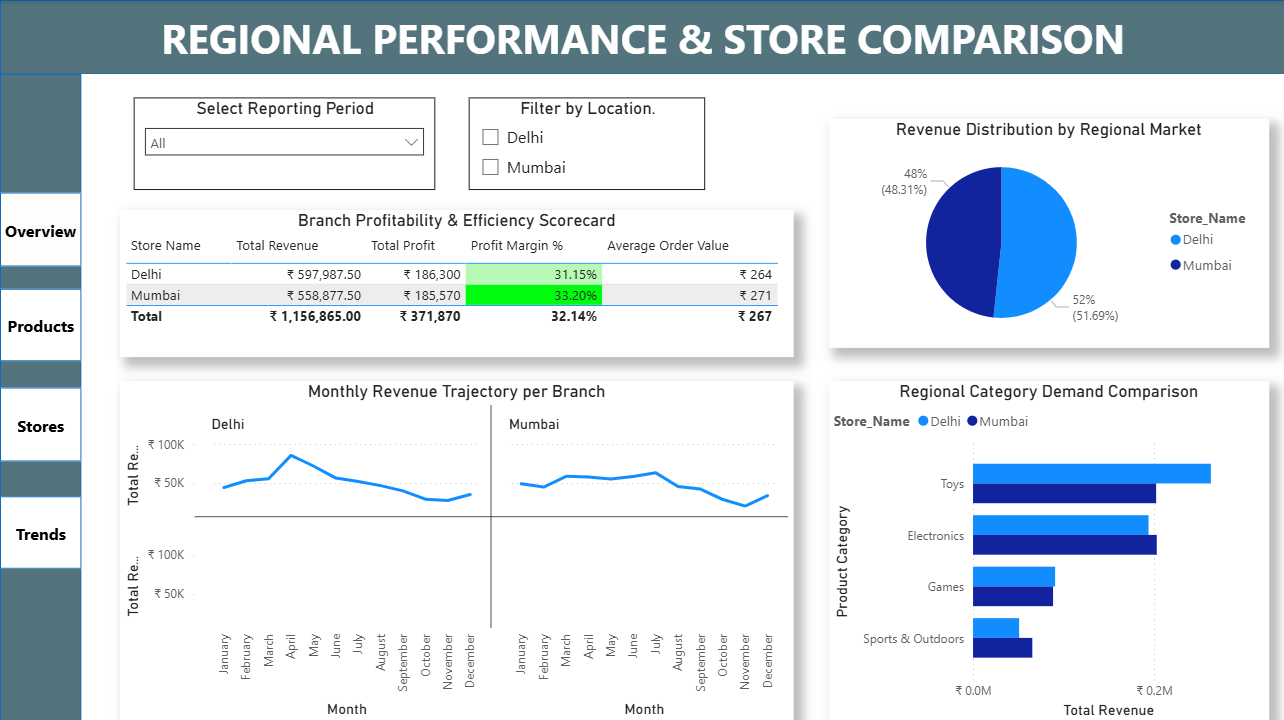

What the dashboard file says about the page in this screenshot:
{"tool":"powerbi","page":{"name":"Stores","canvas":[1280,720],"ordinal":2},"visuals":[{"type":"pieChart","title":"Revenue Distribution by Regional Market","fields":{"Category":["store.Store_Name"],"Y":["DAX.Store Sales Contribution %"]},"box":[825.1,118.1,438.1,227.6],"z":0},{"type":"clusteredBarChart","title":"Regional Category Demand Comparison","fields":{"Category":["products_new.Product_Category"],"Y":["DAX.Total Revenue"],"Series":["store.Store_Name"]},"box":[825.1,379.8,438.1,340],"z":1000},{"type":"tableEx","title":"Branch Profitability & Efficiency Scorecard","fields":{"Values":["store.Store_Name","DAX.Total Revenue","DAX.Total Profit","DAX.Profit Margin %","DAX.Average Order Value"]},"box":[119.5,209.1,670,146.5],"z":2000},{"type":"lineChart","title":"Monthly Revenue Trajectory per Branch","fields":{"Category":["sales_new.Date.Variation.Date Hierarchy.Month"],"Y":["DAX.Total Revenue"],"Rows":["store.Store_Name"]},"box":[119.5,379.8,670,340],"z":3000},{"type":"shape","box":[0,0,1280.3,74],"z":4000},{"type":"shape","box":[0,74,81.1,645.8],"z":5000},{"type":"slicer","title":"Select Reporting Period","fields":{"Values":["sales_new.Date.Variation.Date Hierarchy.Year","sales_new.Date.Variation.Date Hierarchy.Month"]},"box":[133.1,97,299.8,92.1],"z":6000},{"type":"slicer","title":"Filter by Location.","fields":{"Values":["store.Store_Name"]},"box":[466.5,97,235.1,92.1],"z":7000},{"type":"shape","box":[0,191.5,81,73.7],"z":8000},{"type":"shape","box":[0,287.3,81,72.2],"z":9000},{"type":"shape","box":[0,386,81,73.7],"z":10000},{"type":"shape","box":[0,493.6,81,72.2],"z":11000}]}

Visuals, with their boxes on the page's 1280x720 design canvas (x1, y1, x2, y2). These are canvas units, not pixel positions in the 1284x720 screenshot, which may show the page scaled, cropped or inside an application window:
"Revenue Distribution by Regional Market" pieChart: [825,118,1263,346]
"Regional Category Demand Comparison" clusteredBarChart: [825,380,1263,720]
"Branch Profitability & Efficiency Scorecard" tableEx: [120,209,790,356]
"Monthly Revenue Trajectory per Branch" lineChart: [120,380,790,720]
shape: [0,0,1280,74]
shape: [0,74,81,720]
"Select Reporting Period" slicer: [133,97,433,189]
"Filter by Location." slicer: [466,97,702,189]
shape: [0,192,81,265]
shape: [0,287,81,360]
shape: [0,386,81,460]
shape: [0,494,81,566]
